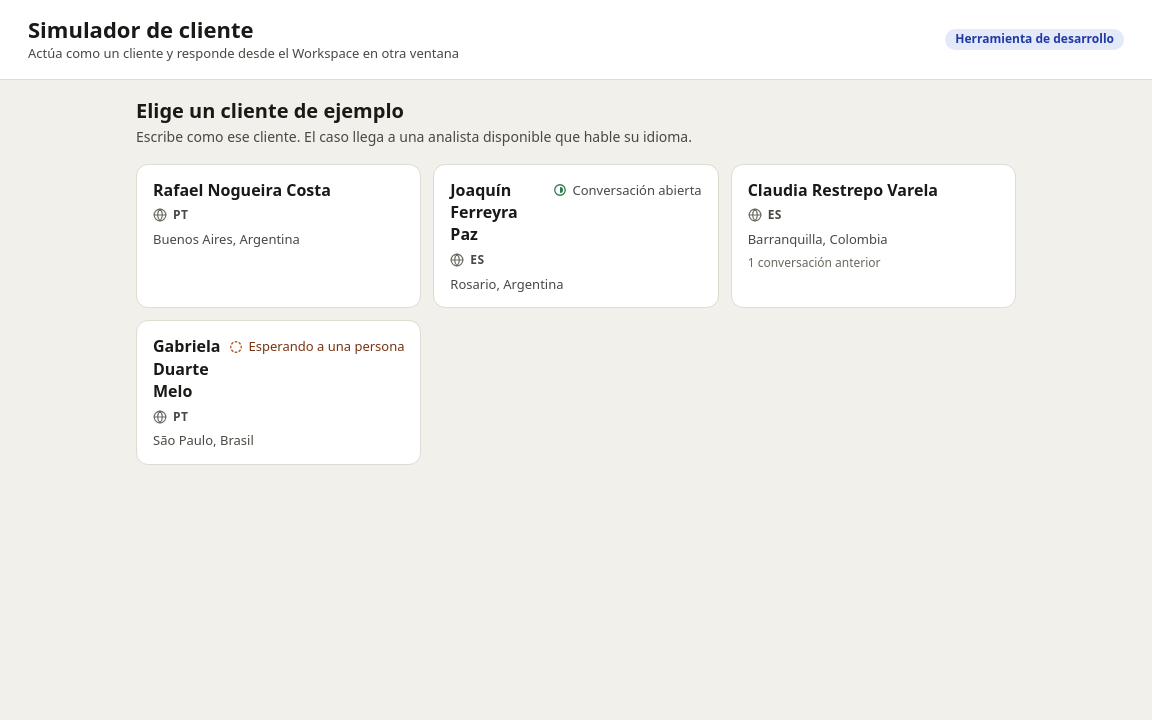
Test: CustomerSimulatorScreen · picker › explains a failed sign-in
What coordinates should you click on to do the following:
click the button "Rafael Nogueira Costa PT Buenos Aires, Argentina"
I would click on:
 (279, 236)
Its box is [136,164,421,308].
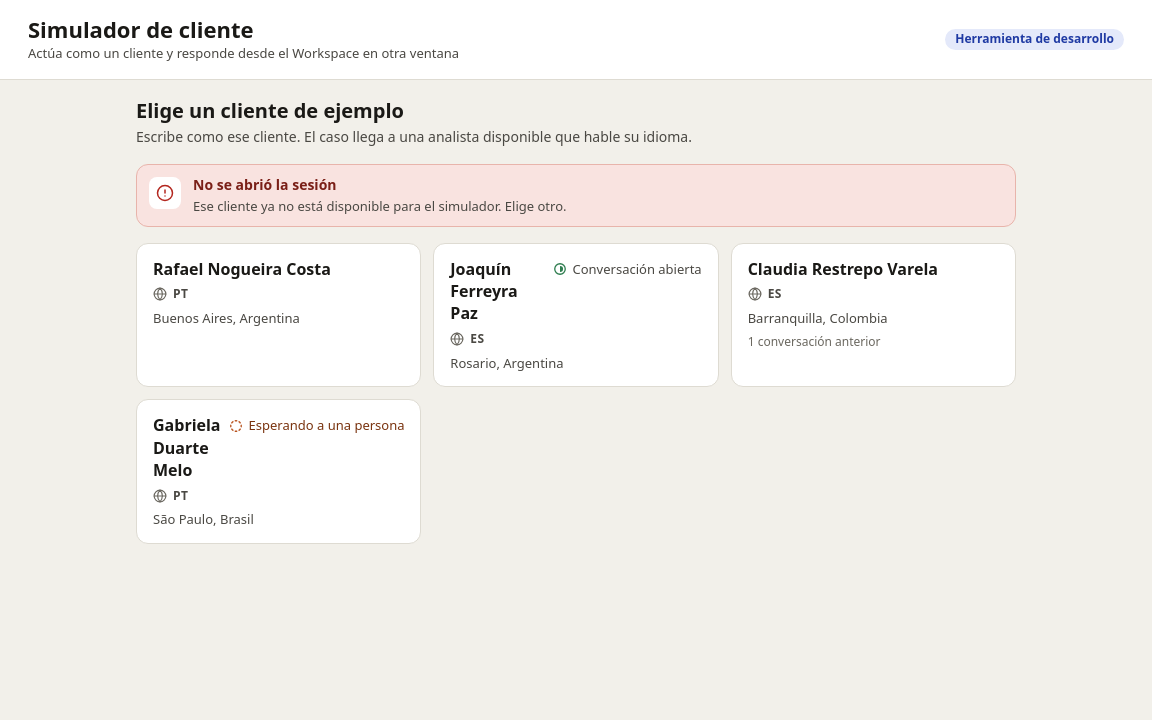
Result: the text "Ese cliente ya no está disponible" is shown at [193,197,566,215]
